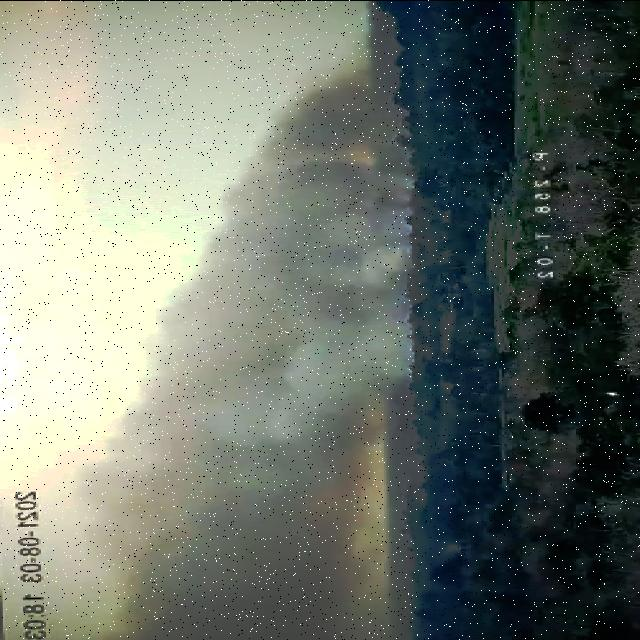asap: (55, 52, 426, 639)
